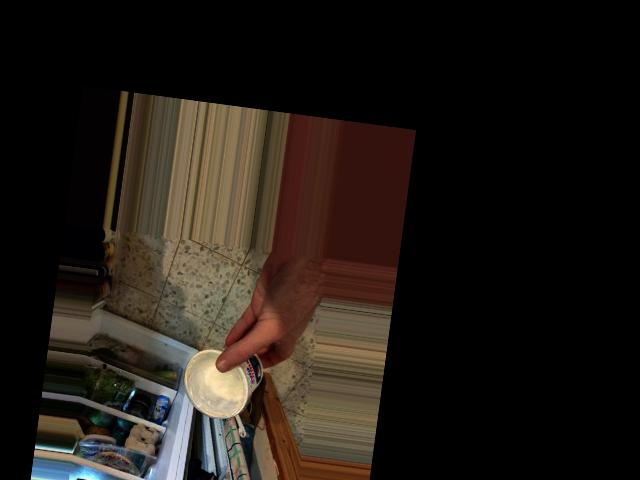cotage: (178, 340, 270, 428)
